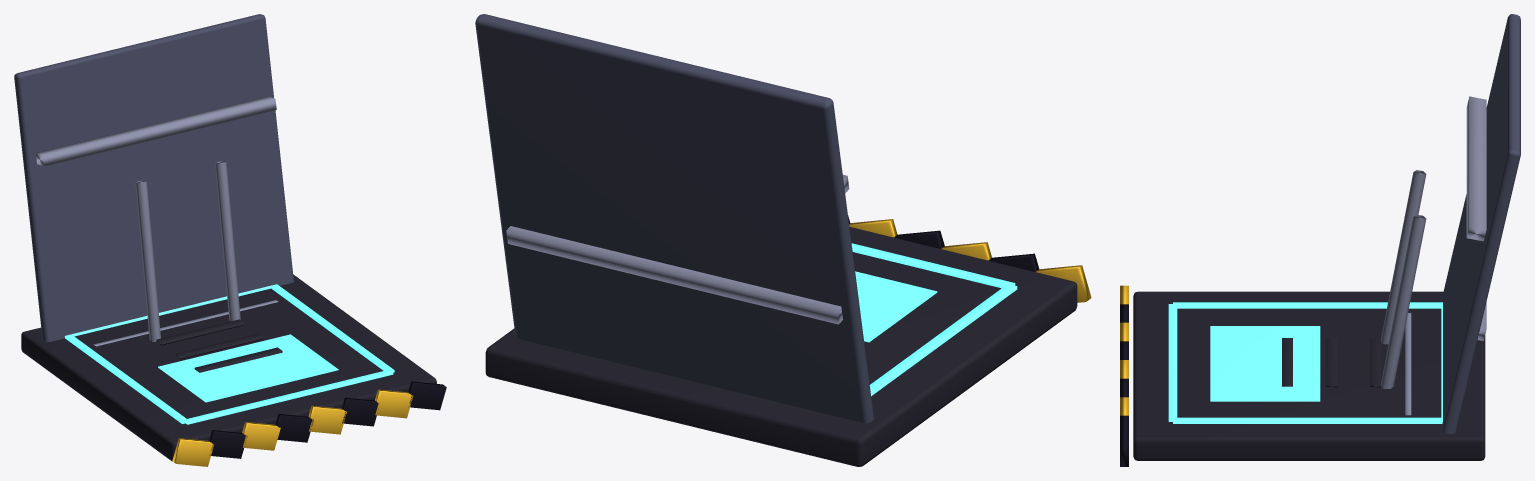
File: neon_hatch.glb
3 views of the same model, side by side, from view 1: azimuth 30°, elevation 25°; view 2: azimuth 150°, elevation 25°; view 3: azimuth 270°, elevation 25° (orthographic). The views are drawn at different scales.
Visible parts, largest first — view 1: Hatch; view 2: Hatch; view 3: Hatch.
Boxes of the visible parts, x1,y1,x2,y2 form: Hatch: [14, 14, 446, 466]; Hatch: [475, 14, 1091, 466]; Hatch: [1120, 14, 1520, 466].
Bounding box in the file's own units: 1.63 × 1.57 × 1.82.
